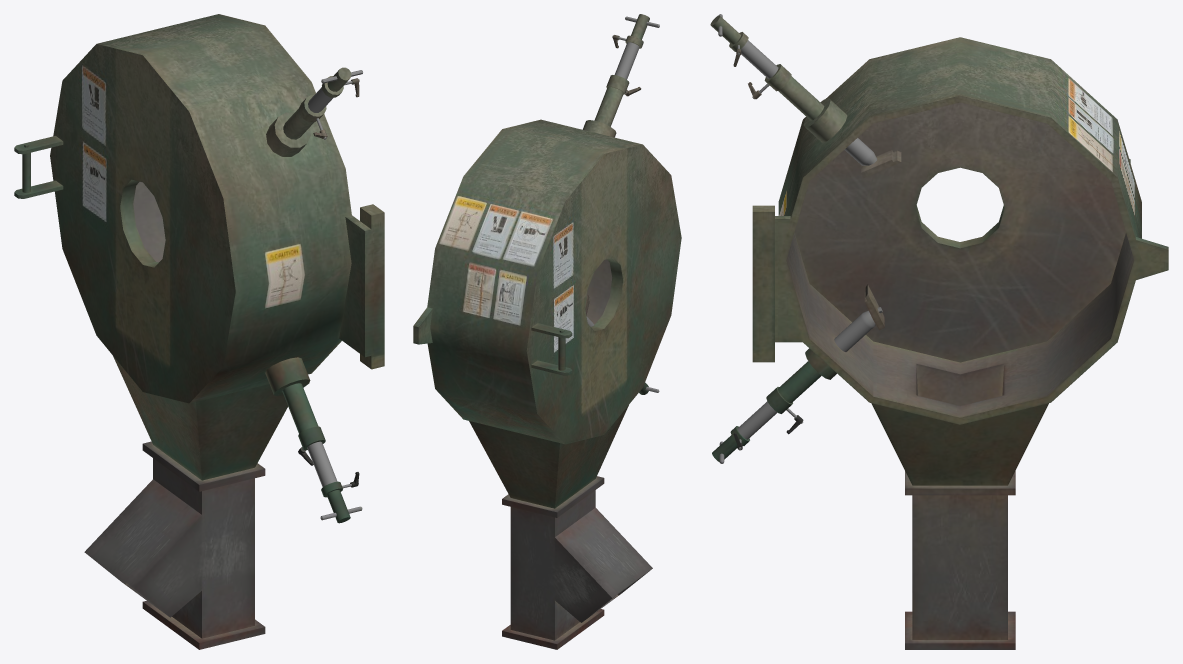
Rendered from PelletMill_Door_WithAnimClips.gltf.
The picture shows the model from 3 angles, left to right: view 1: azimuth 30°, elevation 25°; view 2: azimuth 150°, elevation 25°; view 3: azimuth 270°, elevation 25°; orthographic projection. The views are drawn at different scales.
Visible parts, largest first — view 1: PelletChamberDoor001; view 2: PelletChamberDoor001; view 3: PelletChamberDoor001.
Boxes of the visible parts, x1,y1,x2,y2 form: PelletChamberDoor001: (14,14,384,649); PelletChamberDoor001: (413,14,681,649); PelletChamberDoor001: (710,14,1168,649).
Bounding box in the file's own units: 0.3454 × 1.18 × 0.7847.
Materials: 1 (1 with a texture image).
